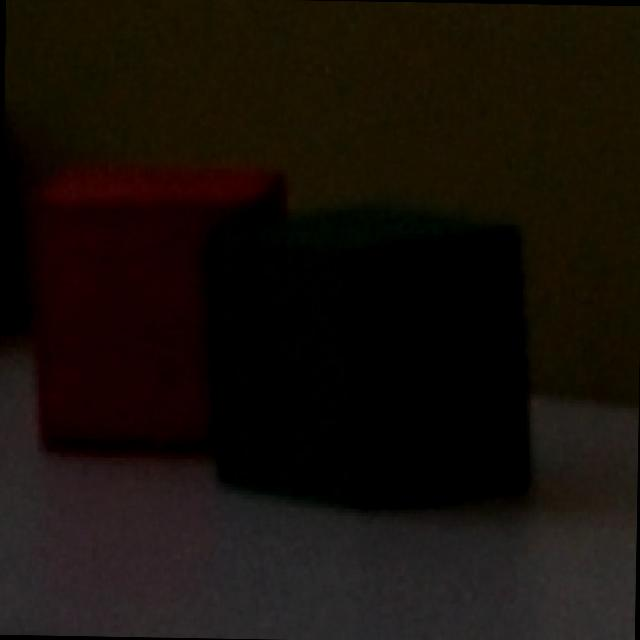green cube: (208, 200, 530, 501)
red cube: (27, 164, 286, 454)
